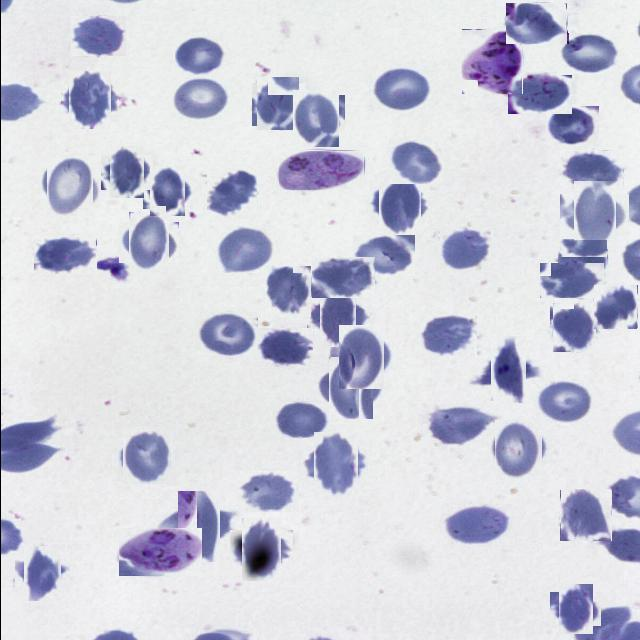red blood cell: (170, 498, 227, 554), (566, 187, 622, 243), (308, 436, 362, 492), (372, 64, 436, 111), (440, 504, 513, 545), (322, 360, 377, 414), (491, 423, 545, 477), (42, 158, 96, 212), (334, 330, 388, 384), (423, 404, 492, 446), (215, 226, 275, 274), (119, 430, 172, 482), (559, 489, 611, 542), (195, 312, 257, 356), (234, 524, 286, 576), (289, 92, 341, 144), (482, 344, 534, 396), (206, 165, 256, 219), (507, 72, 571, 114), (311, 256, 375, 298), (170, 76, 231, 120), (352, 234, 415, 276), (562, 150, 623, 193), (554, 33, 616, 75), (504, 2, 566, 44), (237, 470, 298, 512), (373, 180, 424, 230), (64, 75, 114, 126), (33, 234, 96, 274), (123, 218, 173, 268), (312, 290, 362, 340), (532, 381, 590, 424), (388, 140, 444, 184), (263, 267, 312, 316), (419, 314, 476, 356), (254, 80, 302, 129), (539, 262, 604, 298), (439, 227, 490, 272), (550, 304, 597, 352), (70, 16, 125, 56), (256, 328, 312, 367), (545, 106, 598, 146), (19, 551, 64, 597), (174, 35, 225, 75), (557, 239, 607, 279), (274, 402, 328, 438), (104, 150, 148, 194), (592, 284, 636, 328), (554, 588, 596, 630), (146, 170, 188, 212)
schizont: (461, 29, 522, 94)
trophozoite: (118, 528, 201, 576), (277, 150, 363, 190)
